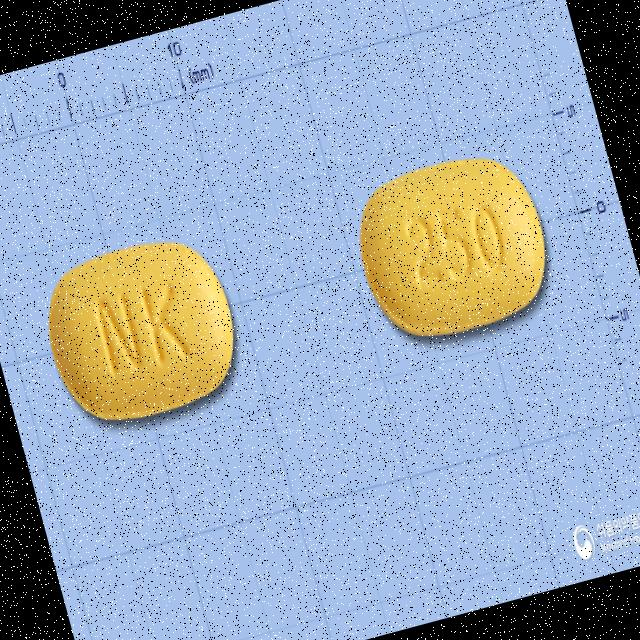Clara: (29, 223, 257, 444), (340, 137, 566, 355)
